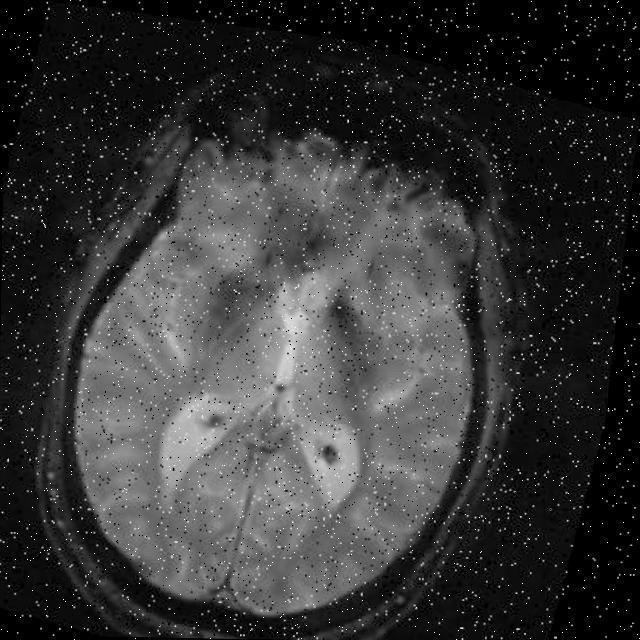LMCI: (312, 263, 388, 344)
MCI: (194, 253, 272, 337)
